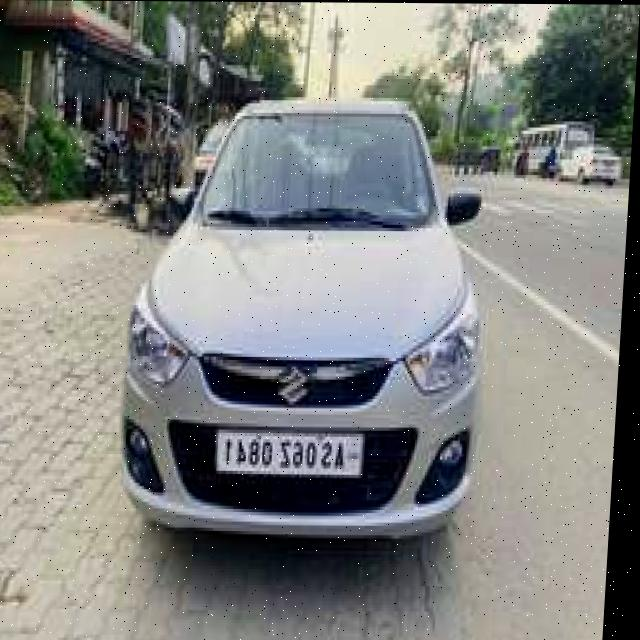plate: (221, 430, 369, 474)
